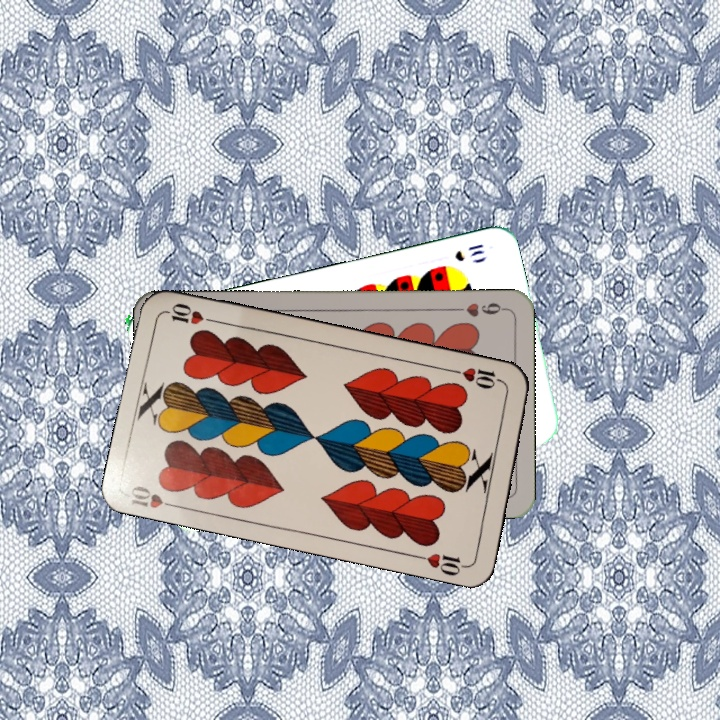H10: (448, 363, 507, 392), (127, 481, 183, 511)
H9: (449, 299, 508, 320)
S10: (450, 240, 487, 264)
